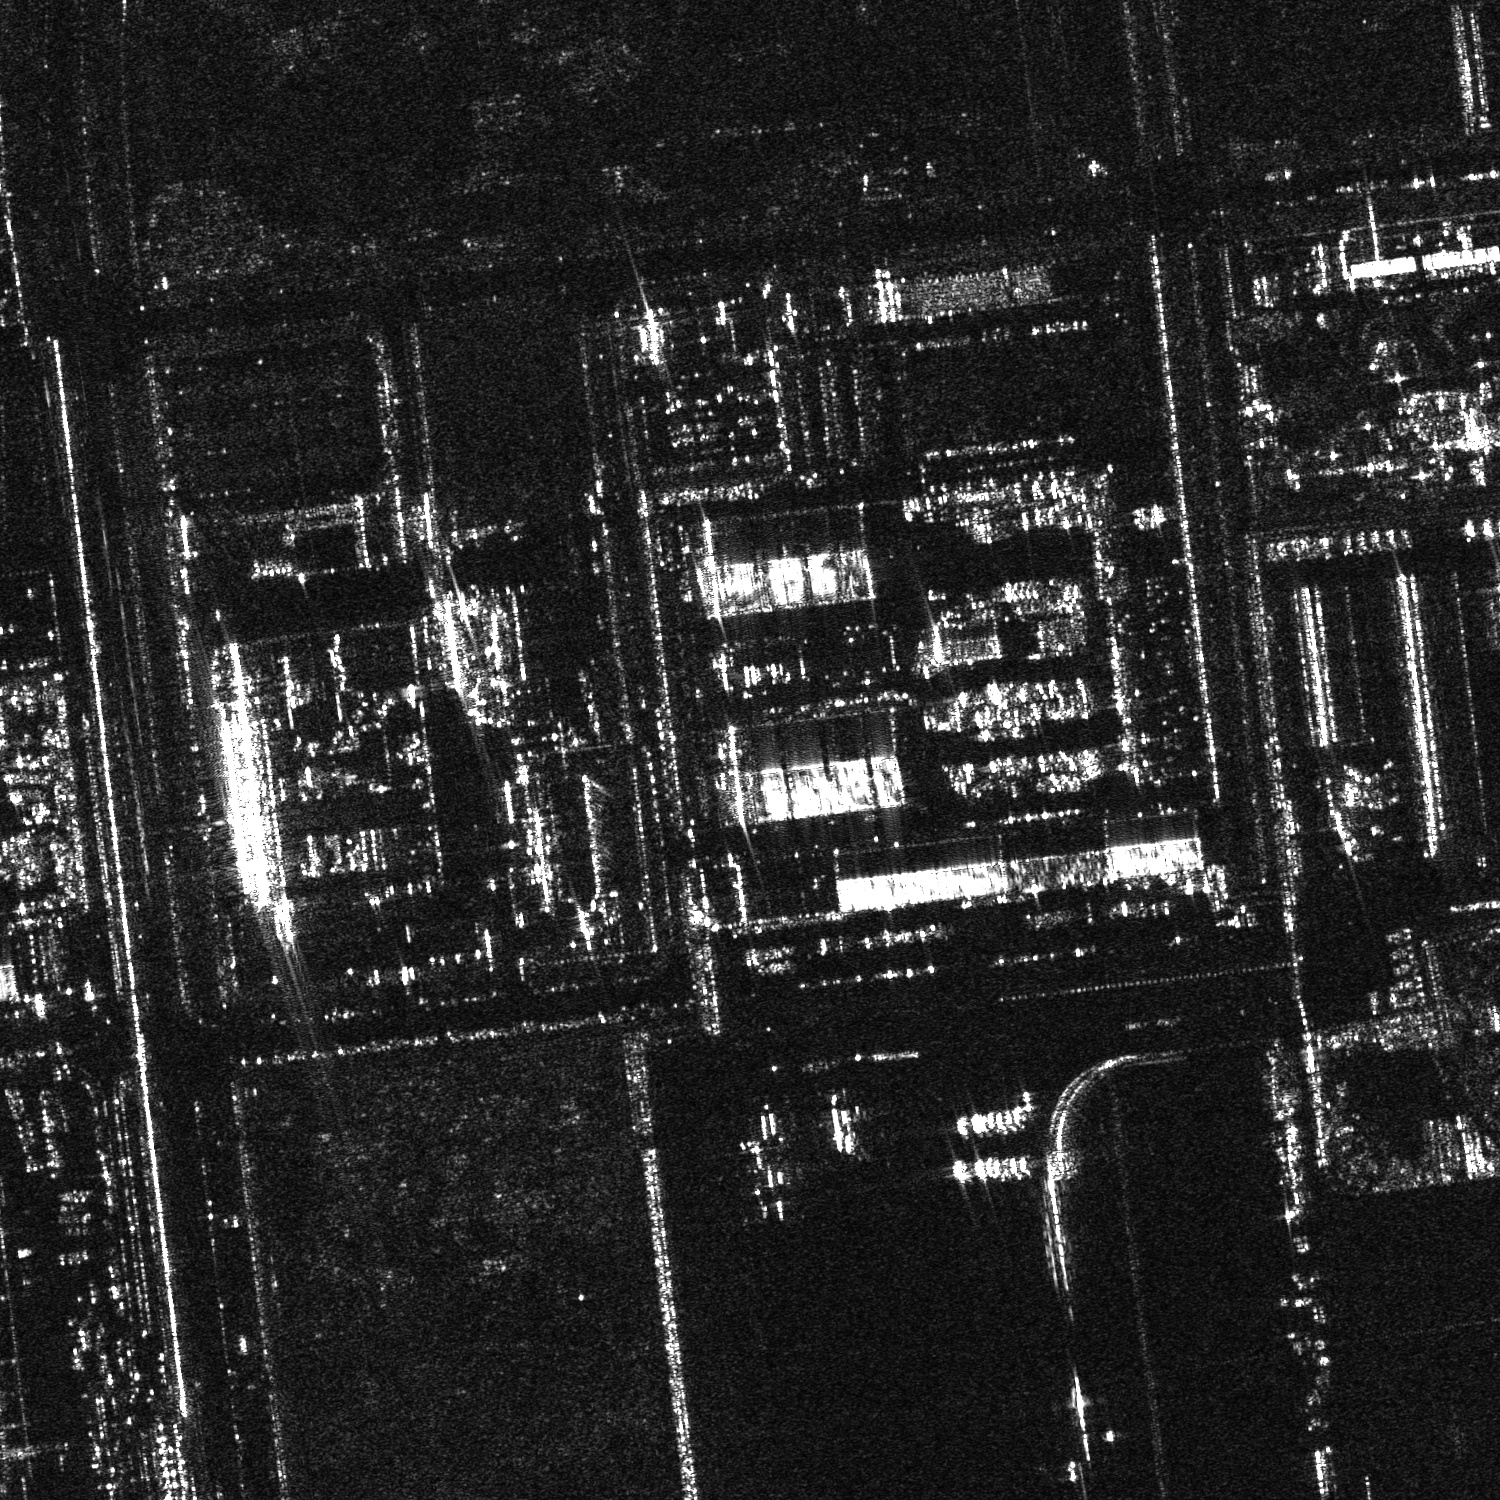Boeing787: (815, 1092, 874, 1155)
other: (718, 1126, 795, 1221)
